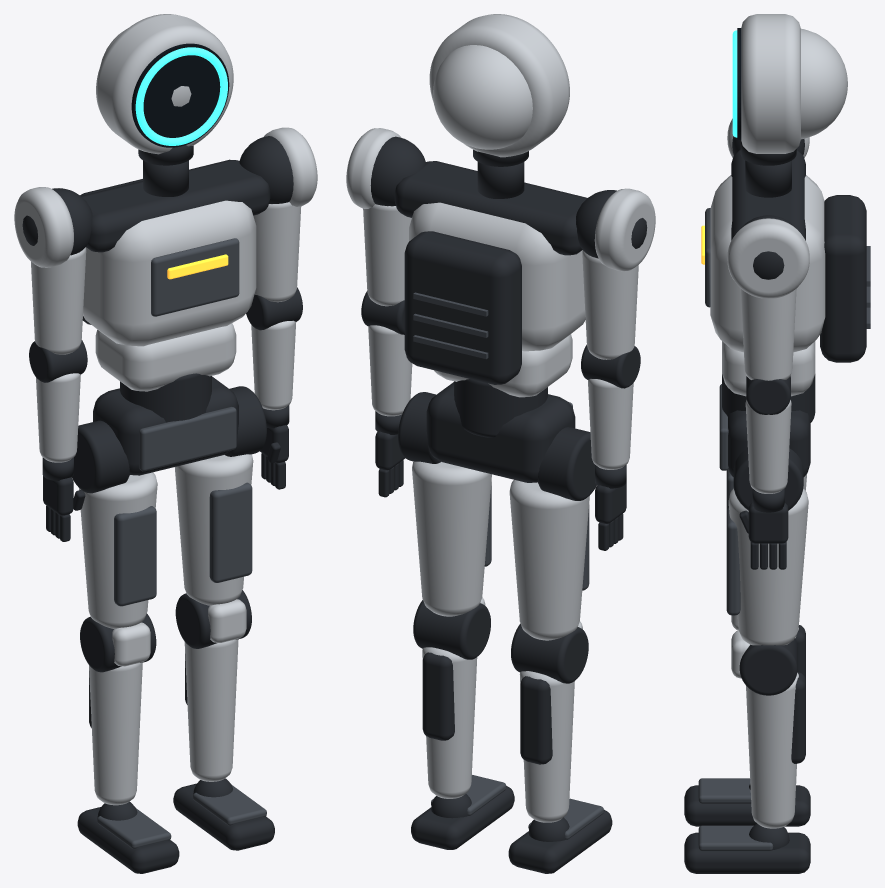
File: humanoid.glb
The picture shows the model from 3 angles, left to right: view 1: azimuth 30°, elevation 25°; view 2: azimuth 150°, elevation 25°; view 3: azimuth 270°, elevation 25°; orthographic projection.
Parts seen in each view (by area): view 1: Chest, HeadShell, Yoke, Shin_L, Shin_R, Thigh_R, Thigh_L, Abdomen, Face, ChestPanel, UpperArm_L, PelvisCover (+30 smaller); view 2: Backpack, Thigh_R, Thigh_L, Chest, HeadBack, Pelvis, HeadShell, Yoke, UpperArm_L, Shin_R, Shin_L, UpperArm_R (+26 smaller); view 3: HeadShell, Chest, Backpack, Thigh_R, Shin_R, ShoulderCap_R, UpperArm_R, HeadBack, Foot_R, Forearm_R, Yoke, KneeAct_R (+22 smaller).
Boxes of the visible parts, box(x1,y1,x2,y2) form: Chest: box(83, 200, 256, 346); HeadShell: box(96, 14, 233, 154); Yoke: box(81, 159, 270, 252); Shin_L: box(89, 662, 142, 805); Shin_R: box(184, 639, 238, 781); Thigh_R: box(174, 454, 253, 605); Thigh_L: box(79, 472, 157, 628); Abdomen: box(95, 323, 236, 391); Face: box(131, 43, 229, 147); ChestPanel: box(151, 238, 239, 316); UpperArm_L: box(31, 247, 86, 354); PelvisCover: box(139, 406, 236, 471); Backpack: box(404, 231, 521, 384); Thigh_R: box(412, 461, 491, 616); Thigh_L: box(509, 479, 589, 640); Chest: box(409, 202, 585, 351); HeadBack: box(433, 45, 532, 149); Pelvis: box(426, 382, 575, 482); HeadShell: box(429, 14, 569, 157); Yoke: box(394, 161, 587, 255); UpperArm_L: box(582, 250, 638, 359); Shin_R: box(422, 647, 477, 798); Shin_L: box(519, 671, 574, 822); UpperArm_R: box(363, 204, 411, 306); HeadShell: box(741, 14, 800, 153); Chest: box(710, 175, 825, 352); Backpack: box(820, 195, 866, 362); Thigh_R: box(728, 488, 808, 645); Shin_R: box(746, 672, 798, 828); ShoulderCap_R: box(727, 218, 809, 298); UpperArm_R: box(740, 288, 796, 380); HeadBack: box(801, 28, 847, 139); Foot_R: box(684, 832, 810, 873); Forearm_R: box(745, 400, 791, 493); Yoke: box(731, 149, 805, 240); KneeAct_R: box(739, 638, 797, 695).
Size of the model in its own units: 0.696 by 1.94 by 0.398.
